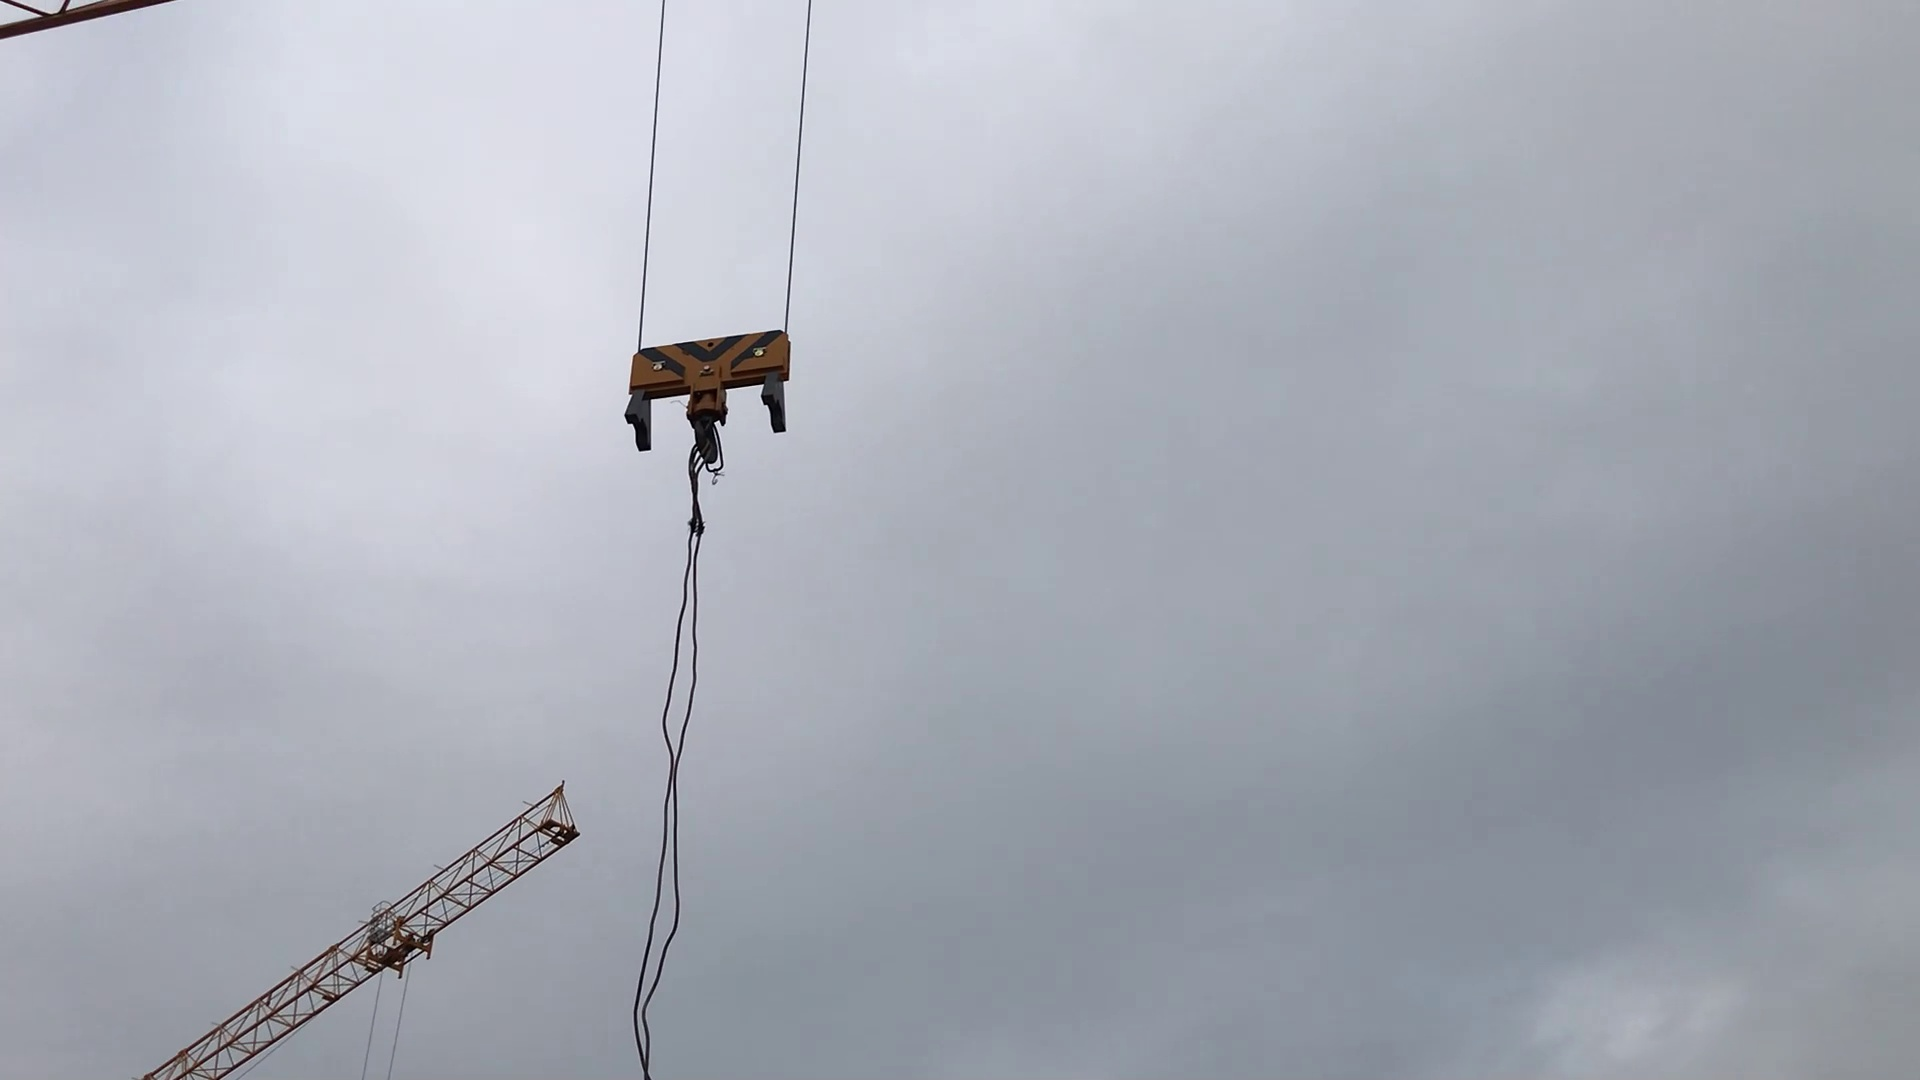hook: (612, 326, 803, 479)
